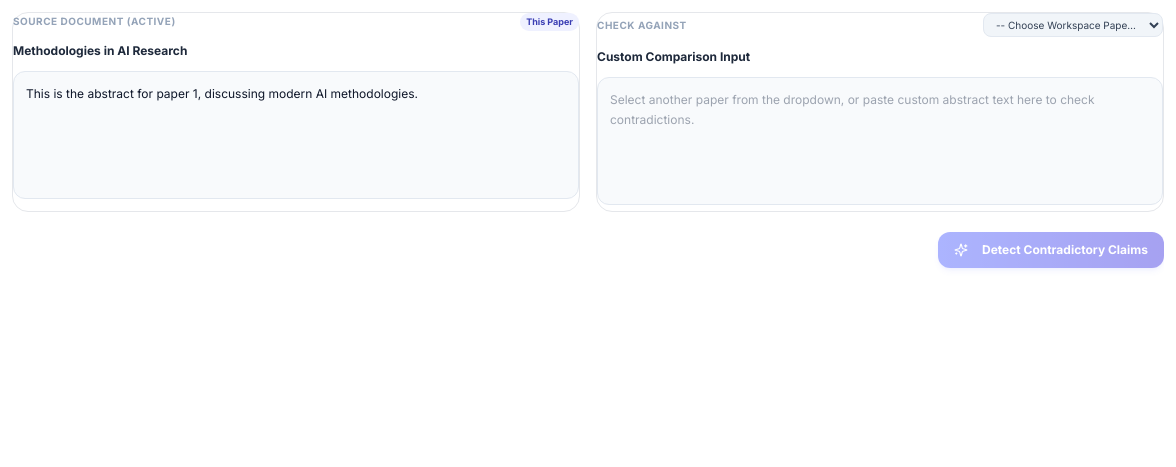
Test: AI Insights Panels UI Components › ContradictionPanel › displays compatible badge for low contradiction score
The width and height of the screenshot is (1176, 467).
Select "A Deep Dive into Neural Networks" in the dropdown: (1073, 25) [983,13,1163,37]
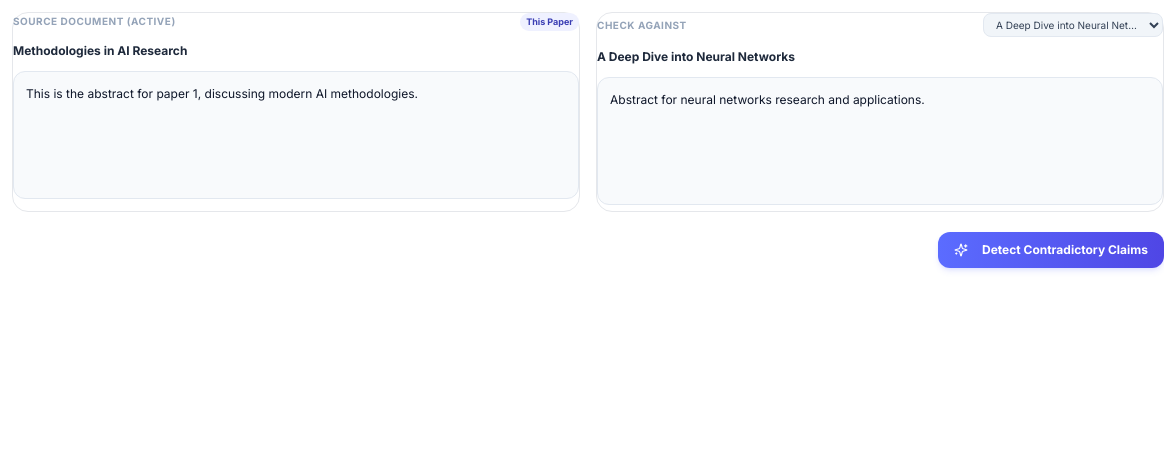
Click the button "Detect Contradictory Claims": (1051, 250) [938,232,1164,268]
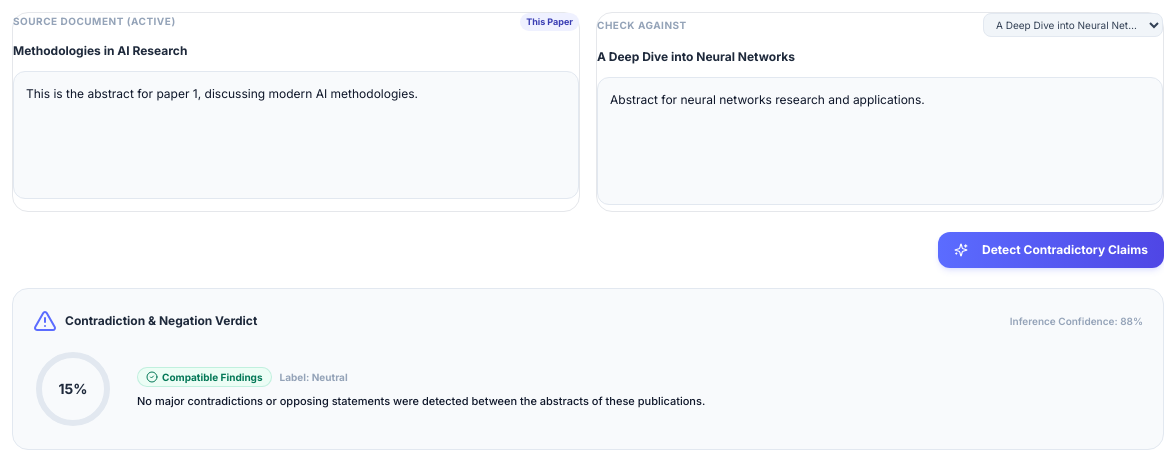
Result: the text "Compatible Findings" is shown at [137,367,272,387]
